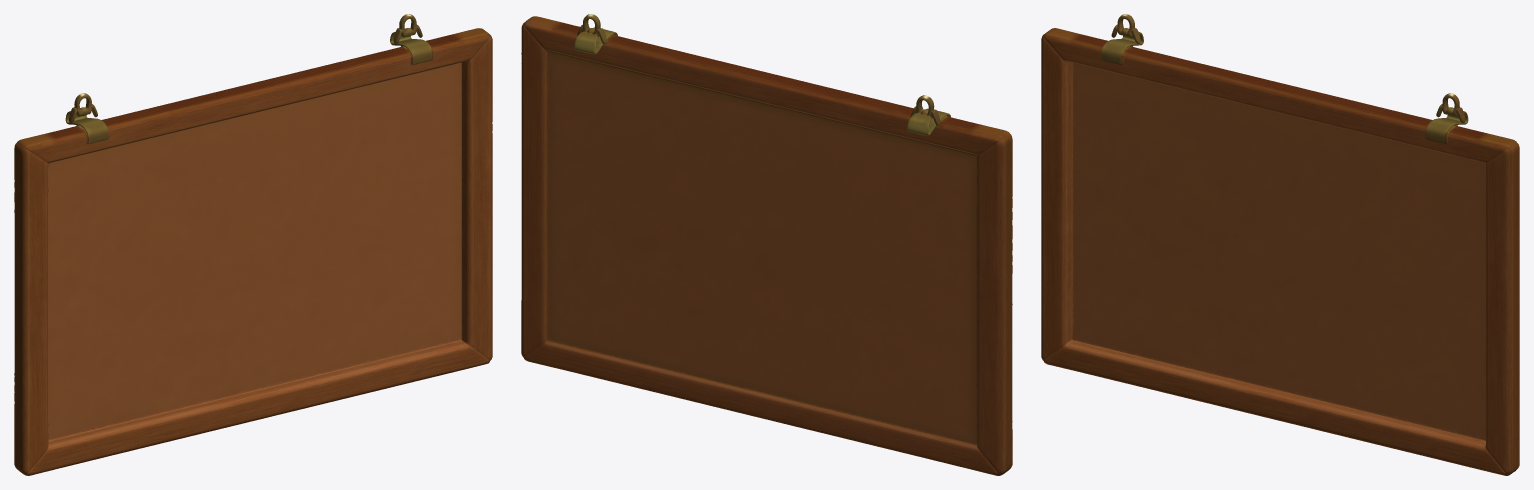
Rendered from 廣告牌.glb.
The picture shows the model from 3 angles, left to right: view 1: azimuth 30°, elevation 25°; view 2: azimuth 150°, elevation 25°; view 3: azimuth 330°, elevation 25°; orthographic projection. The views are drawn at different scales.
Parts seen in each view (by area): view 1: Mesh_0.001; view 2: Mesh_0.001; view 3: Mesh_0.001.
Part boxes in pixels (x1,y1,x2,y2): Mesh_0.001: (14, 14, 492, 475); Mesh_0.001: (521, 14, 1012, 475); Mesh_0.001: (1041, 14, 1519, 475).
Size of the model in its own units: 1.1 by 0.8 by 0.0939.
Materials: 1 (1 with a texture image).
